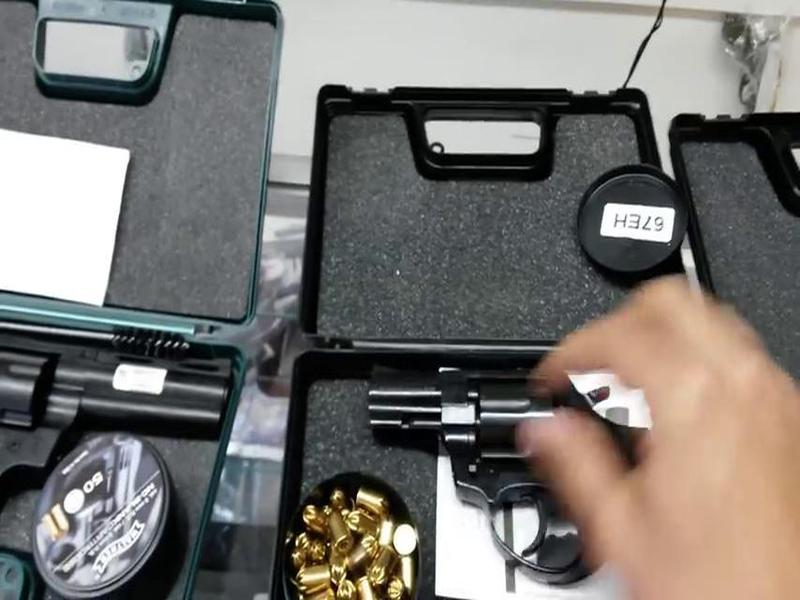Revolver: (357, 335, 662, 600)
